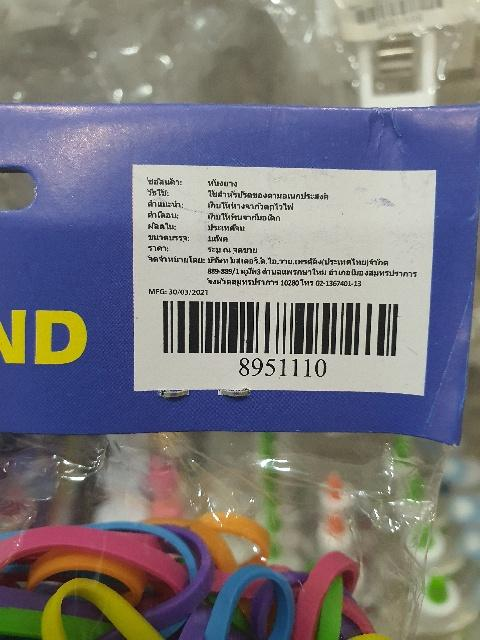Barcode: (153, 296, 413, 376)
